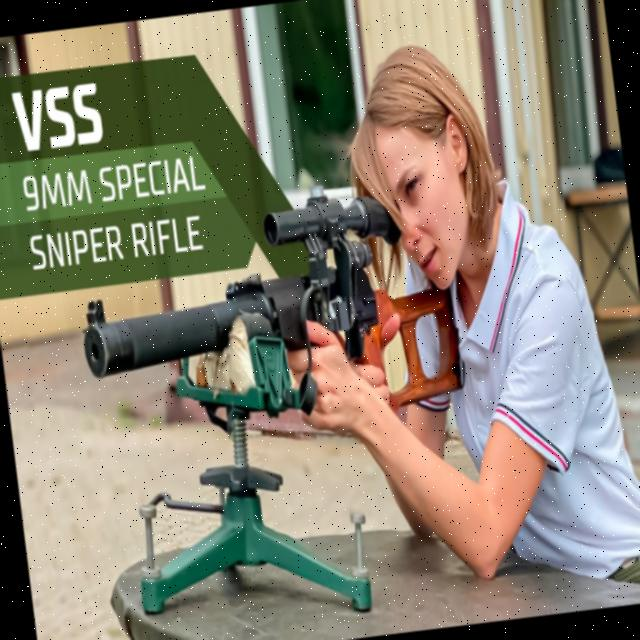Sniper: (73, 190, 414, 406)
